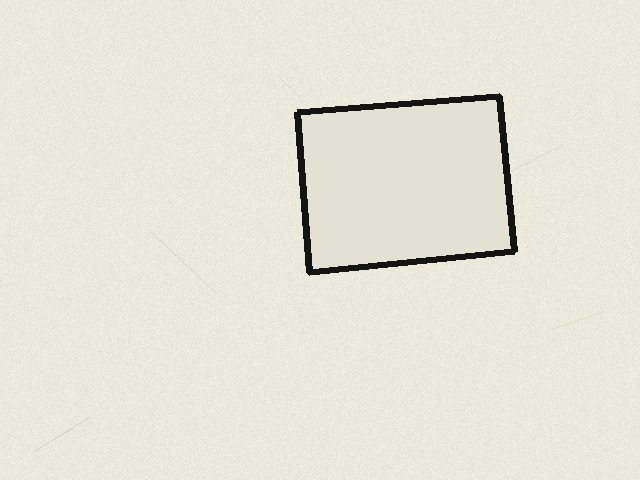parking_area: (297, 96, 514, 272)
